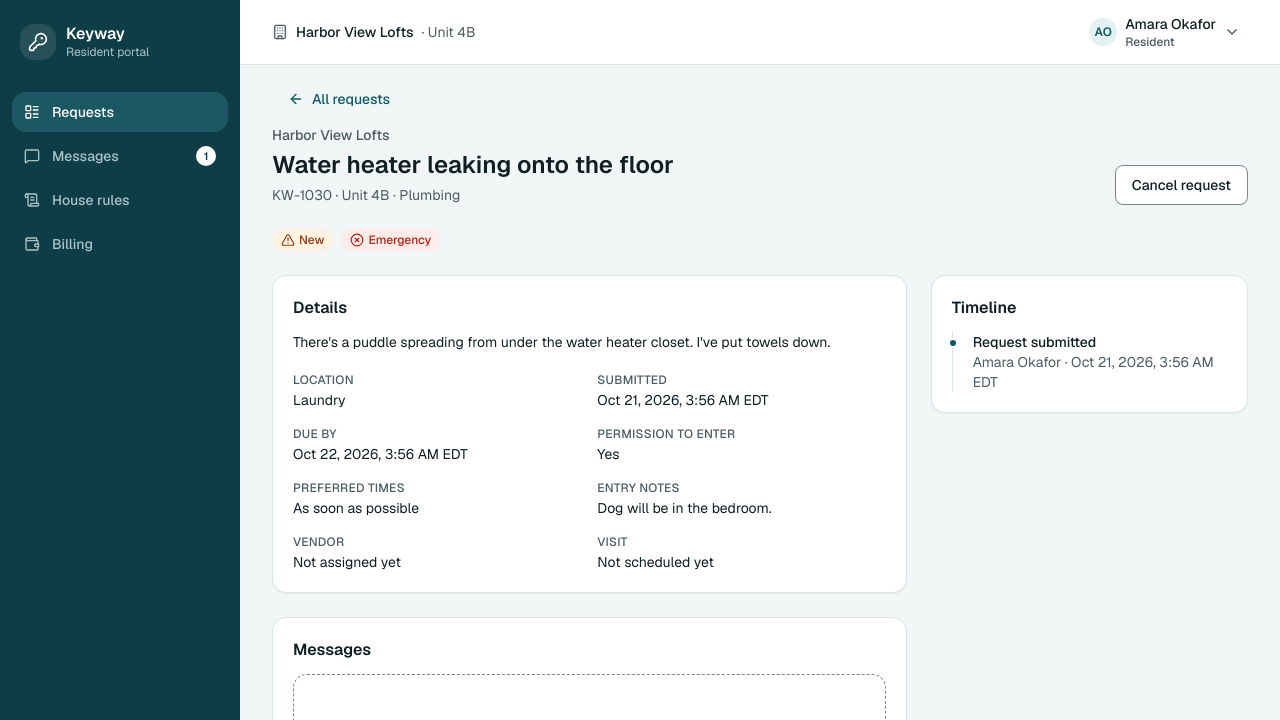
Test: RequestDetailView › lets the resident cancel a new request after confirming
Expected: the heading "Water heater leaking onto the floor" is shown, top-left (272, 149), bottom-right (674, 181)
Click the button "Cancel request" at (1181, 185), box top-left (1115, 165), bottom-right (1248, 205)
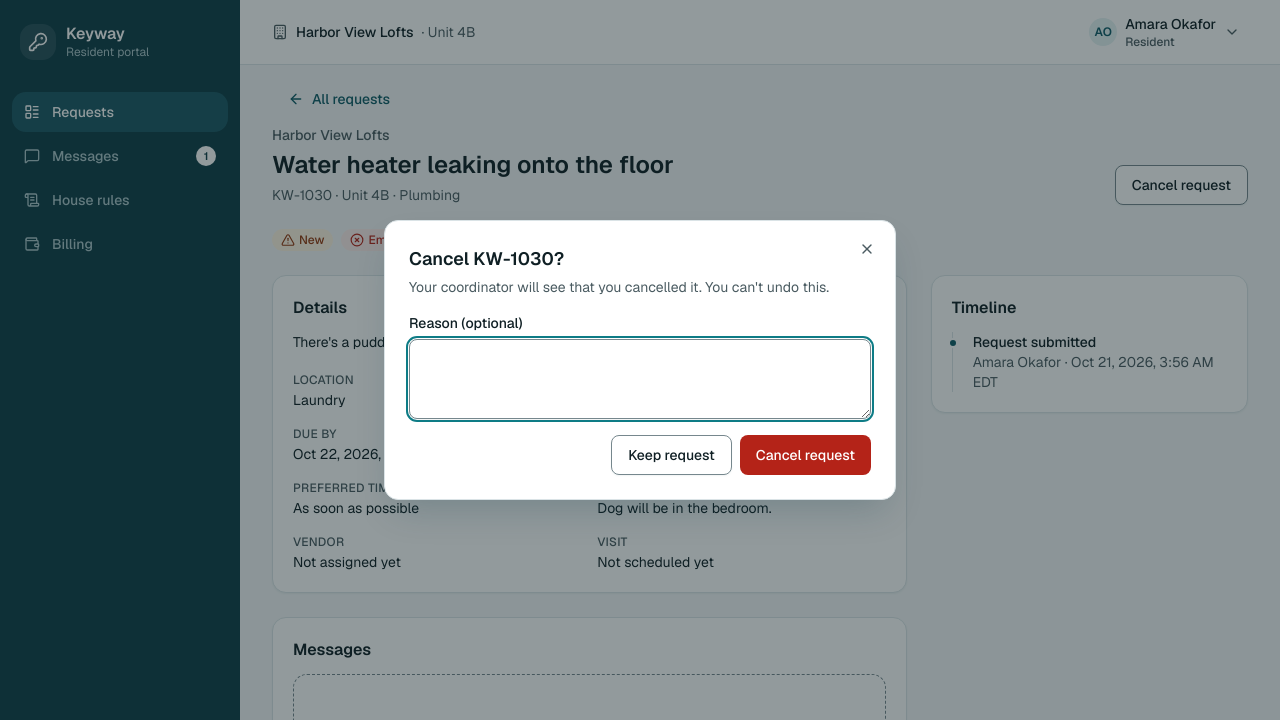
Click the button "Keep request" at (672, 455), box top-left (611, 435), bottom-right (732, 475)
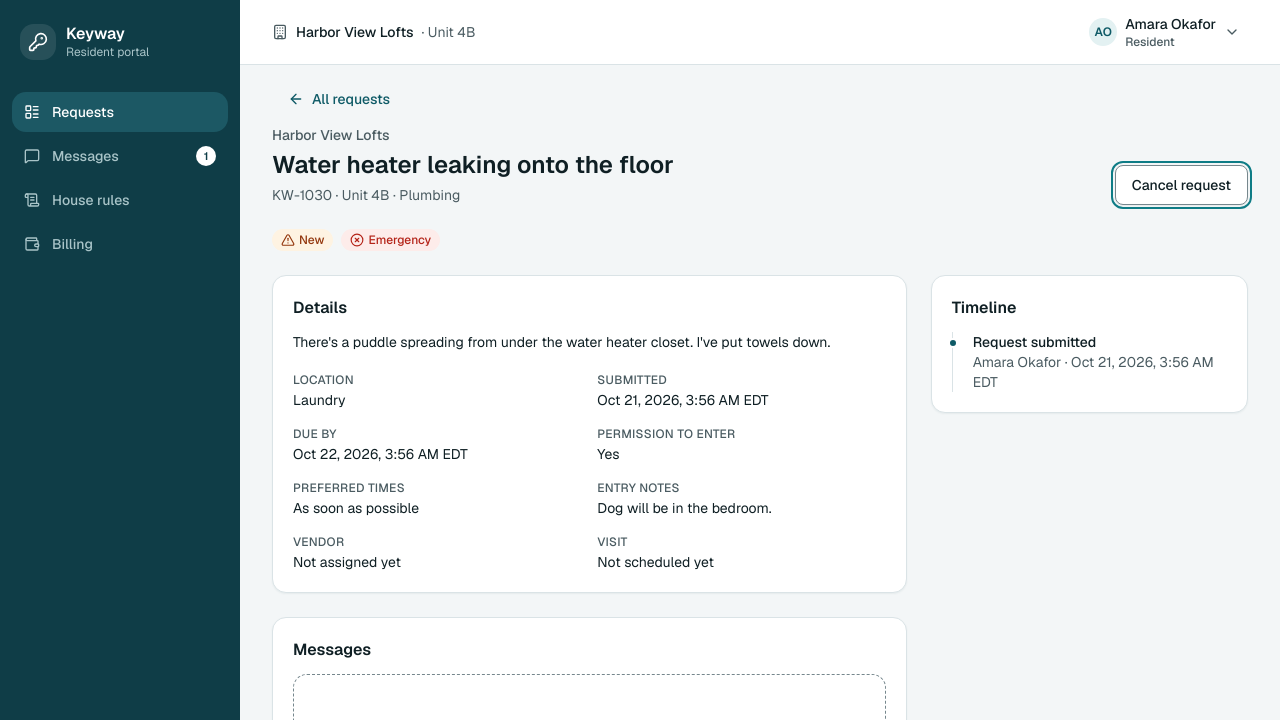
Now the dialog is gone
Click the button "Cancel request" at (1181, 185), box top-left (1115, 165), bottom-right (1248, 205)
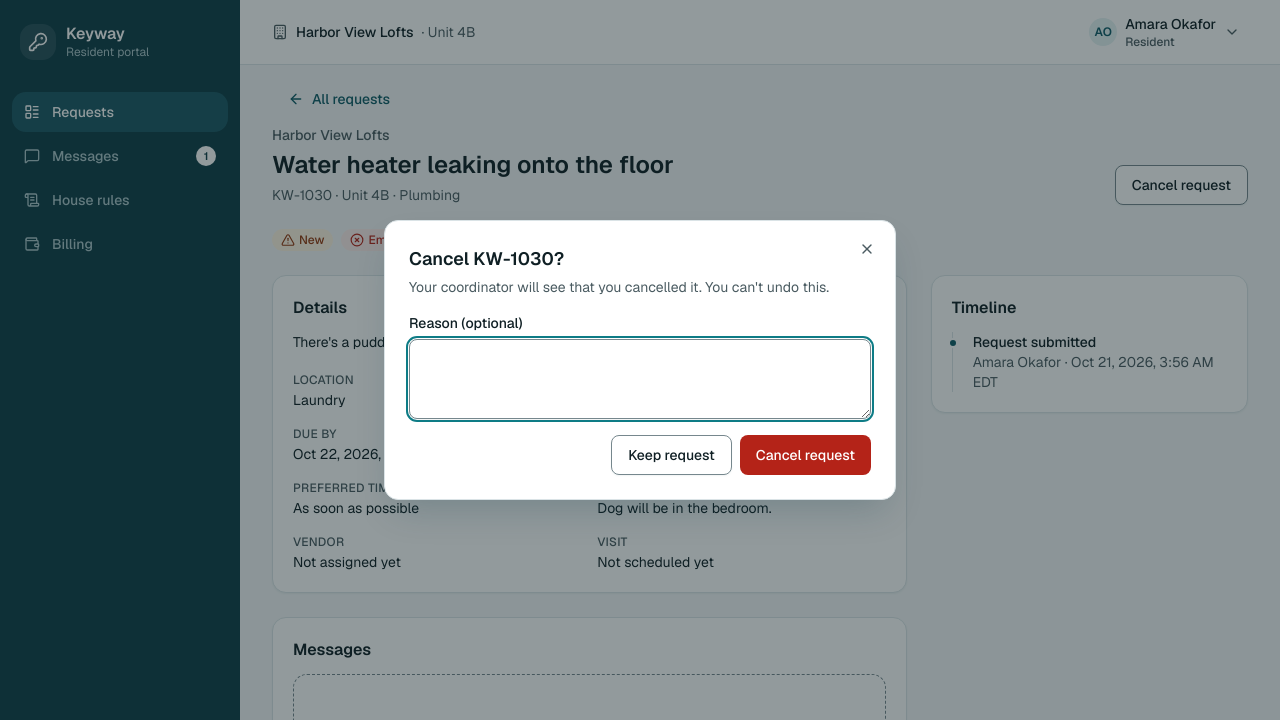
Type "Landlord's plumber came." into the text box labelled "Reason (optional)" at (640, 379), box top-left (409, 339), bottom-right (871, 419)
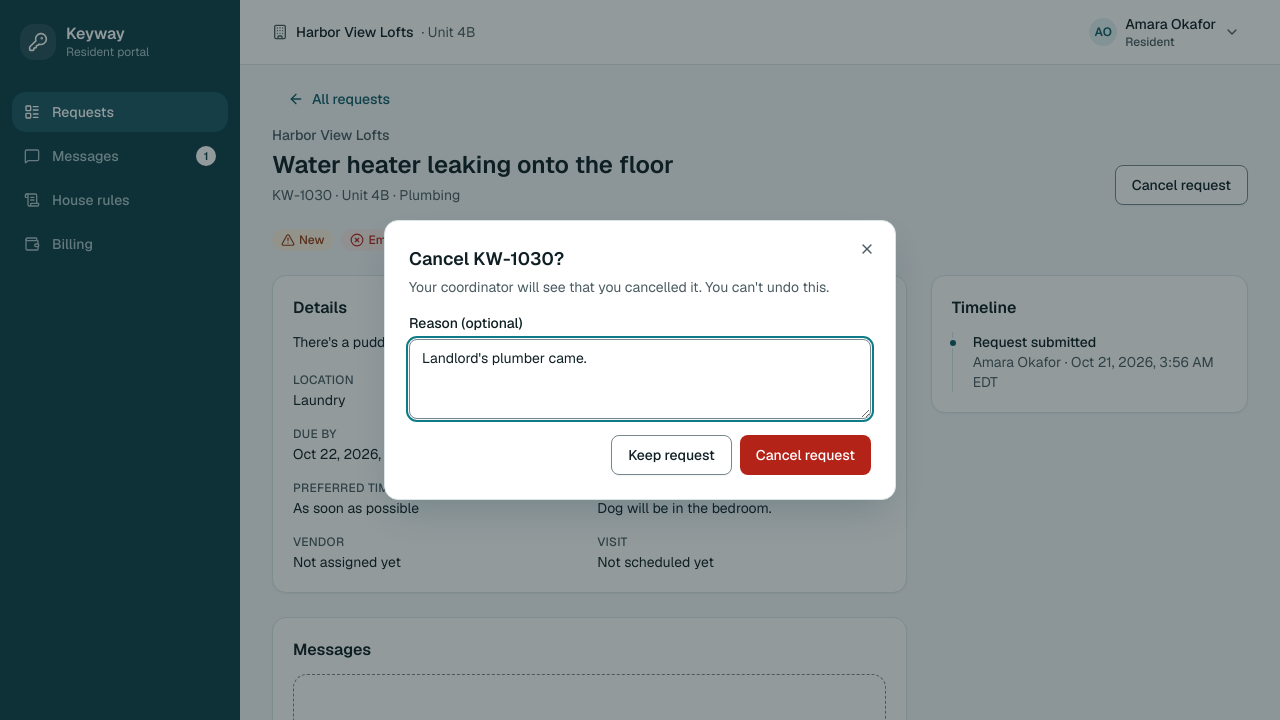
Click the button "Cancel request" at (805, 455), box top-left (740, 435), bottom-right (871, 475)
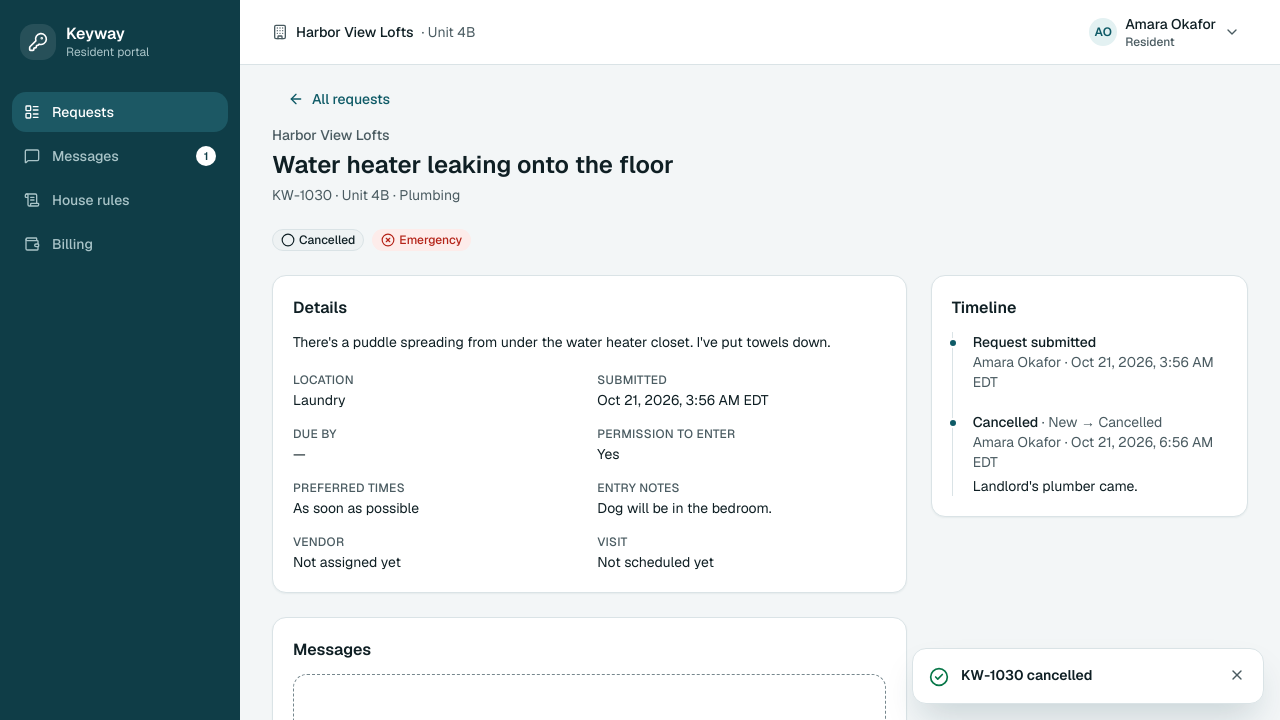
Now the text "KW-1030 cancelled" is shown, box top-left (961, 666), bottom-right (1092, 684)
Now the text "Cancelled" is shown, box top-left (272, 229), bottom-right (364, 251)
Now the list item that starts with "Cancelled" shows "New → Cancelled", box top-left (973, 412), bottom-right (1227, 496)
